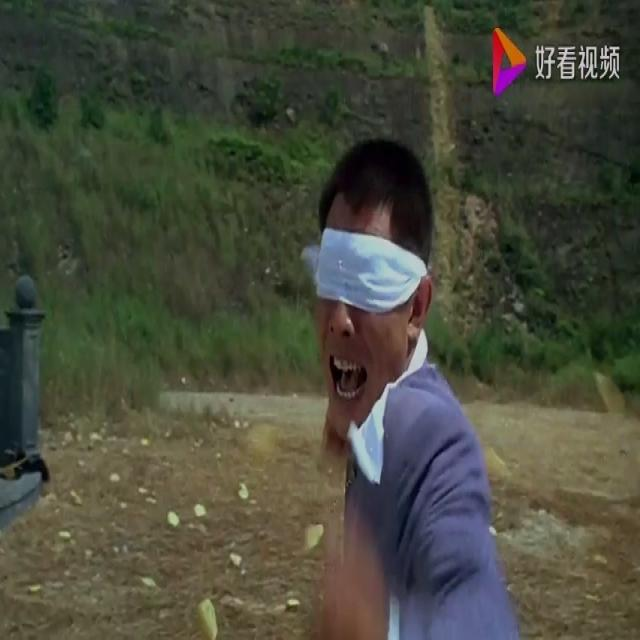fight: (285, 129, 528, 639)
